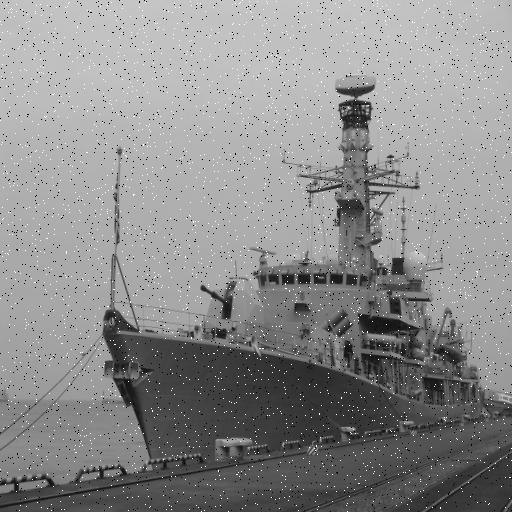Fragata: (100, 47, 493, 486)
